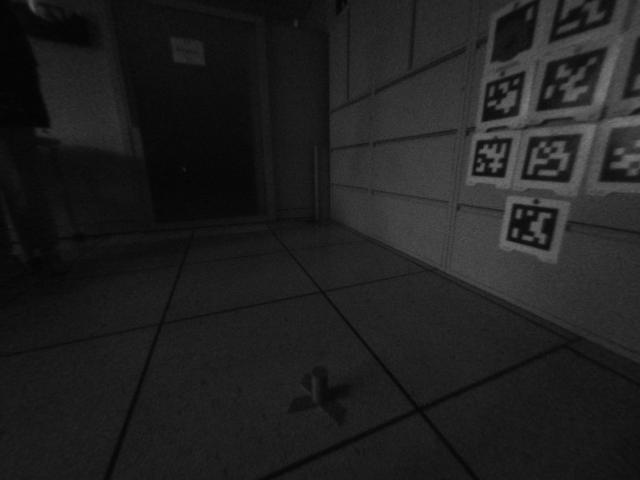x: (286, 357, 350, 432)
